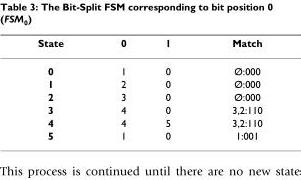table: (36, 36, 261, 141)
table column: (200, 36, 261, 141), (36, 36, 91, 141), (145, 36, 200, 141), (91, 36, 145, 141)
table column header: (36, 36, 261, 56)
table row: (36, 36, 261, 56), (36, 56, 261, 76), (36, 76, 261, 89), (36, 89, 261, 102), (36, 102, 261, 115), (36, 115, 261, 128), (36, 128, 261, 141)
